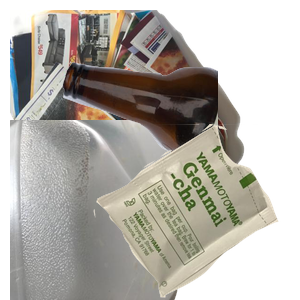glass: (60, 59, 300, 217)
paper: (10, 10, 250, 190)
plastic: (10, 120, 190, 300)
trash: (91, 124, 300, 300)
